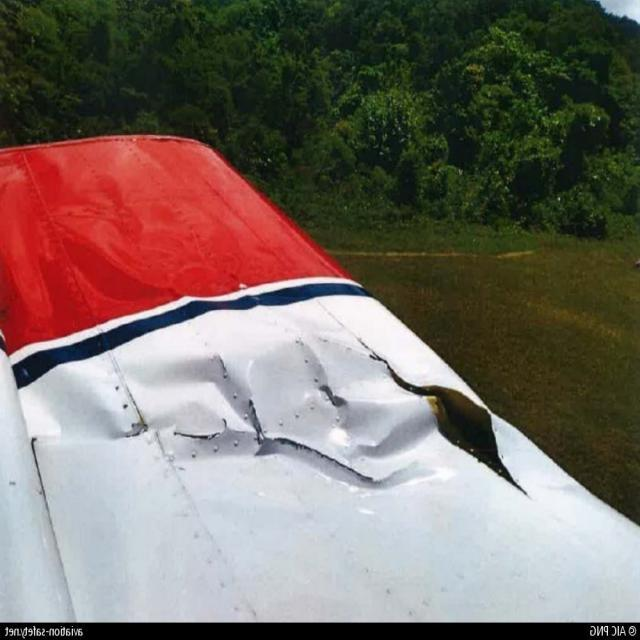crack: (289, 436, 383, 493), (179, 418, 235, 443), (249, 399, 274, 444), (209, 361, 237, 386)
